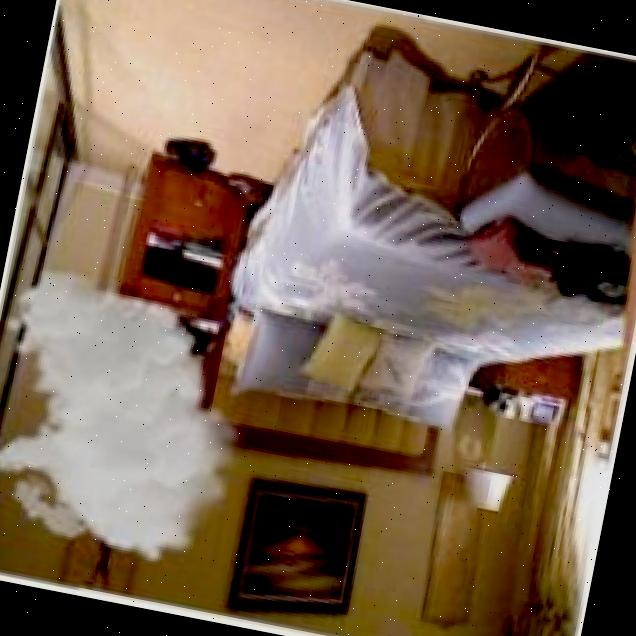smoke: (0, 259, 273, 576)
